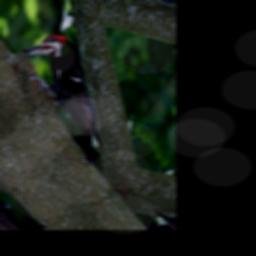Woodpecker: (10, 14, 131, 169)
